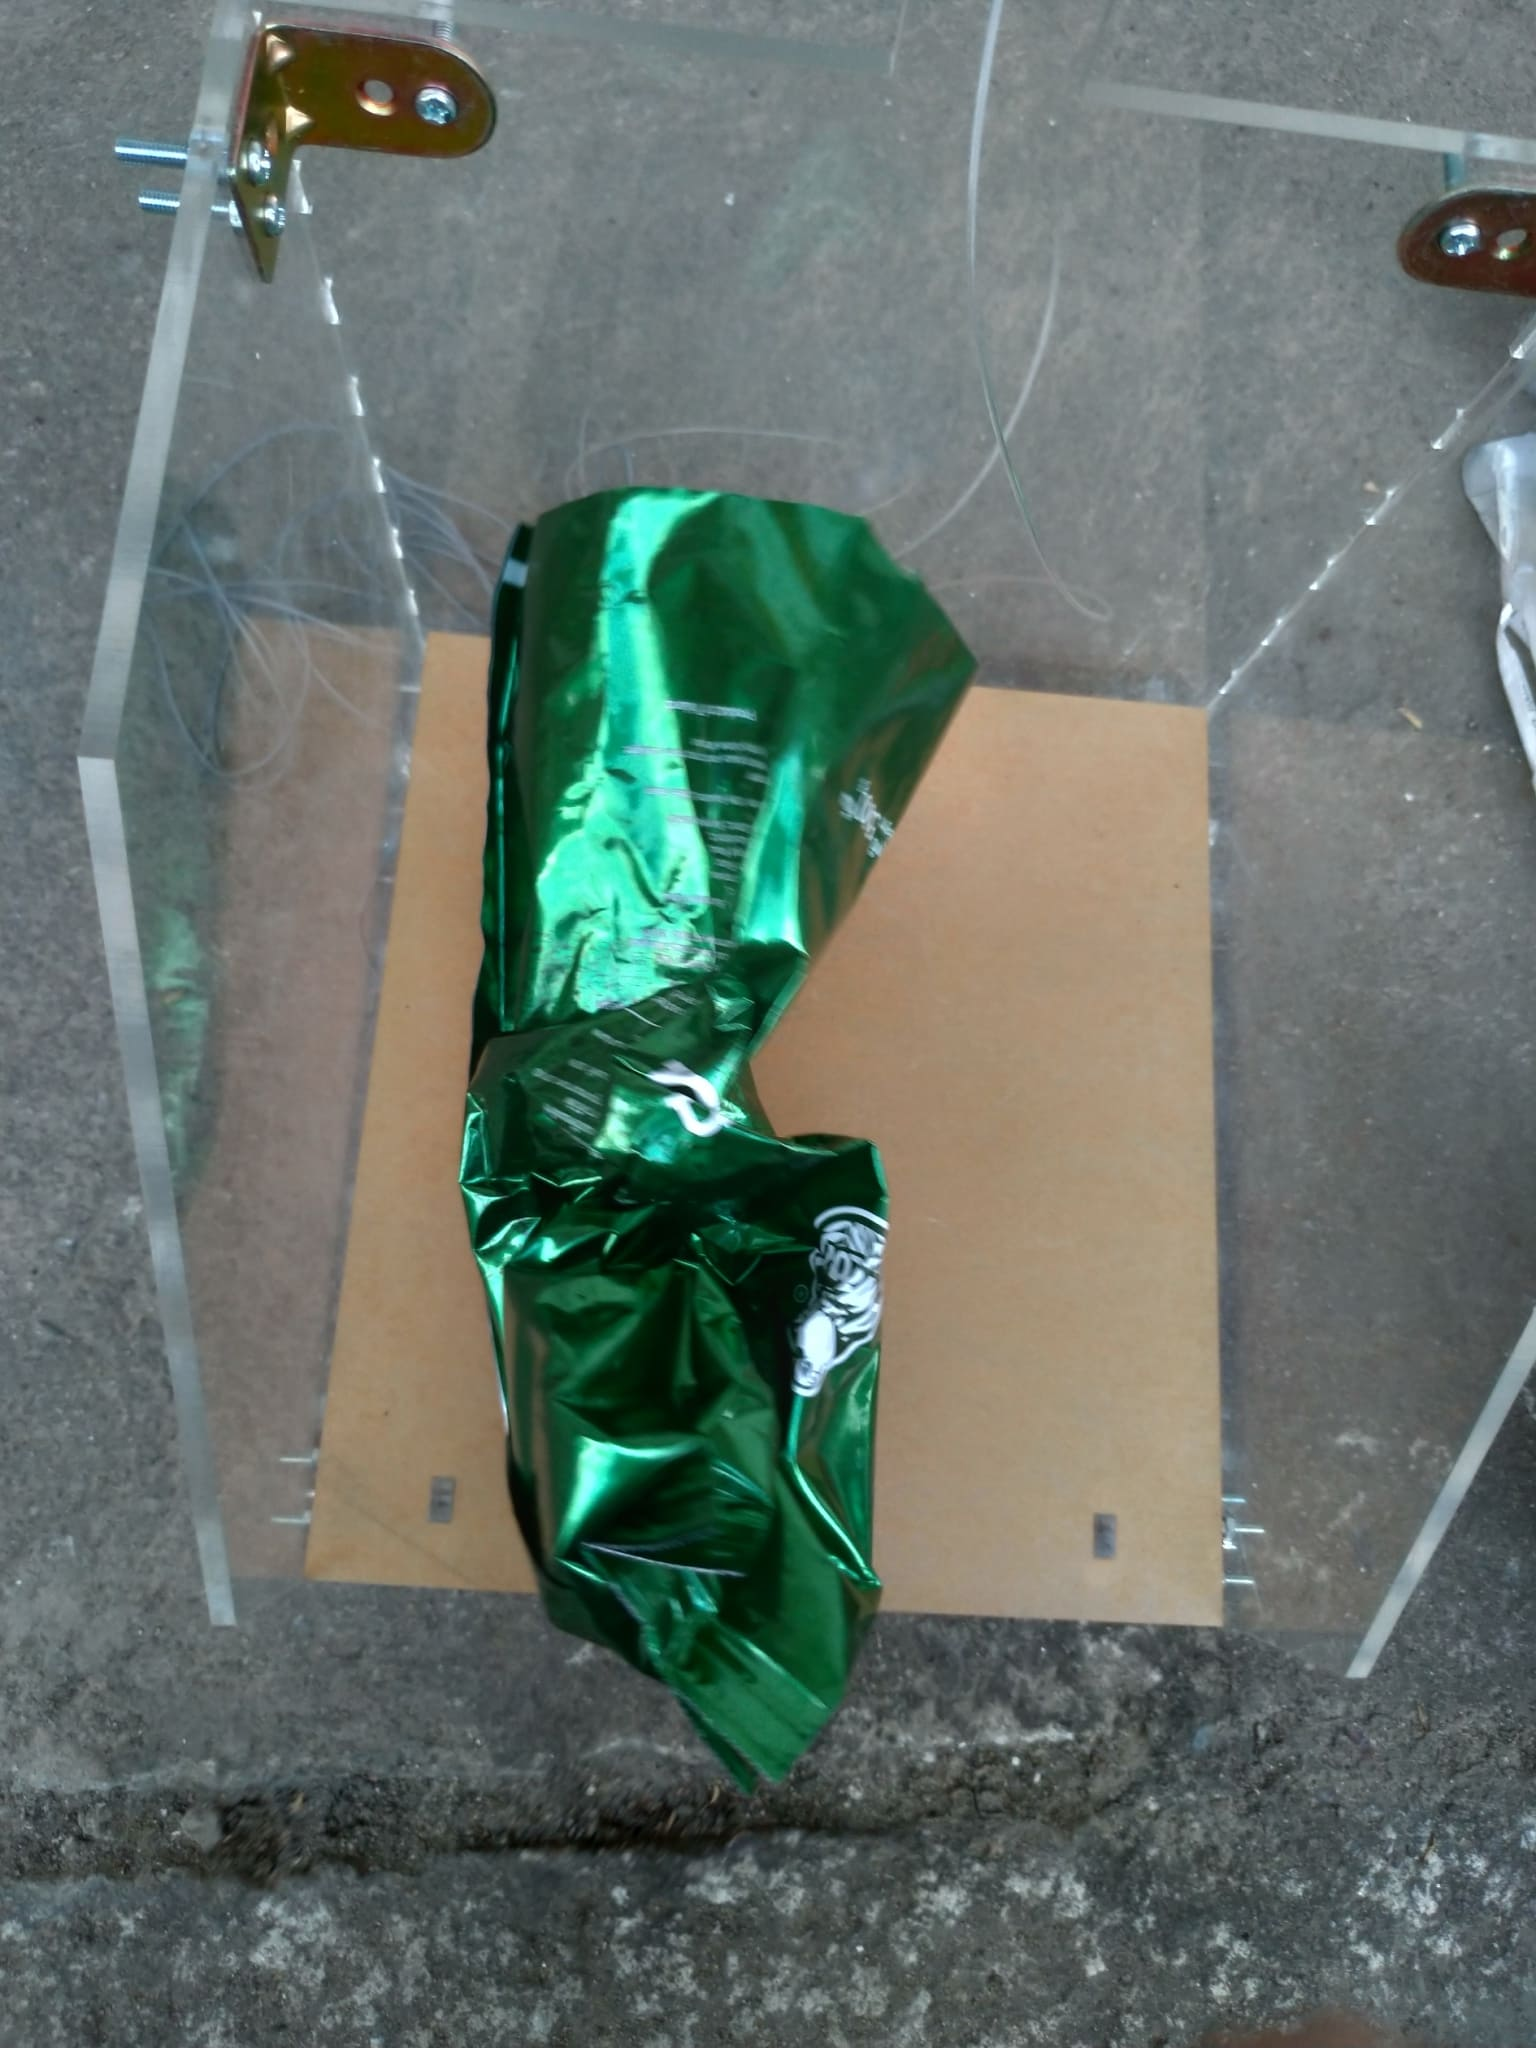Others: (470, 492, 960, 1780)
